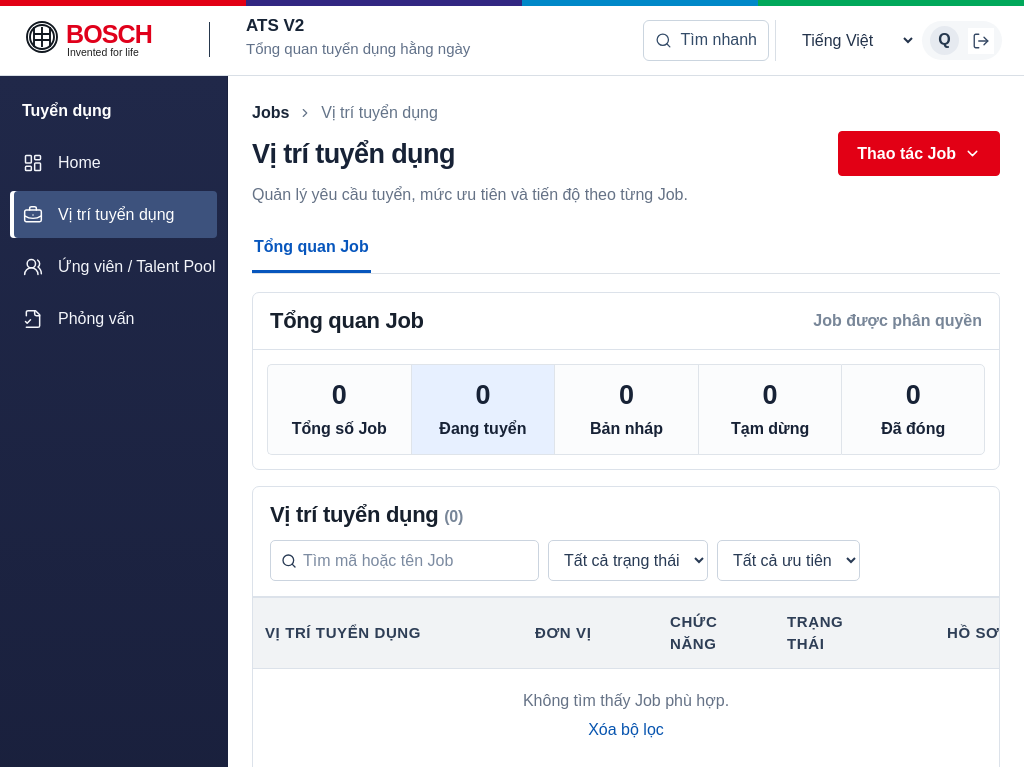
Test: switches administration language without resetting its form or scope
The image size is (1024, 767).
Click the button "Thao tác Job" at (919, 154), box [838,131,1000,176]
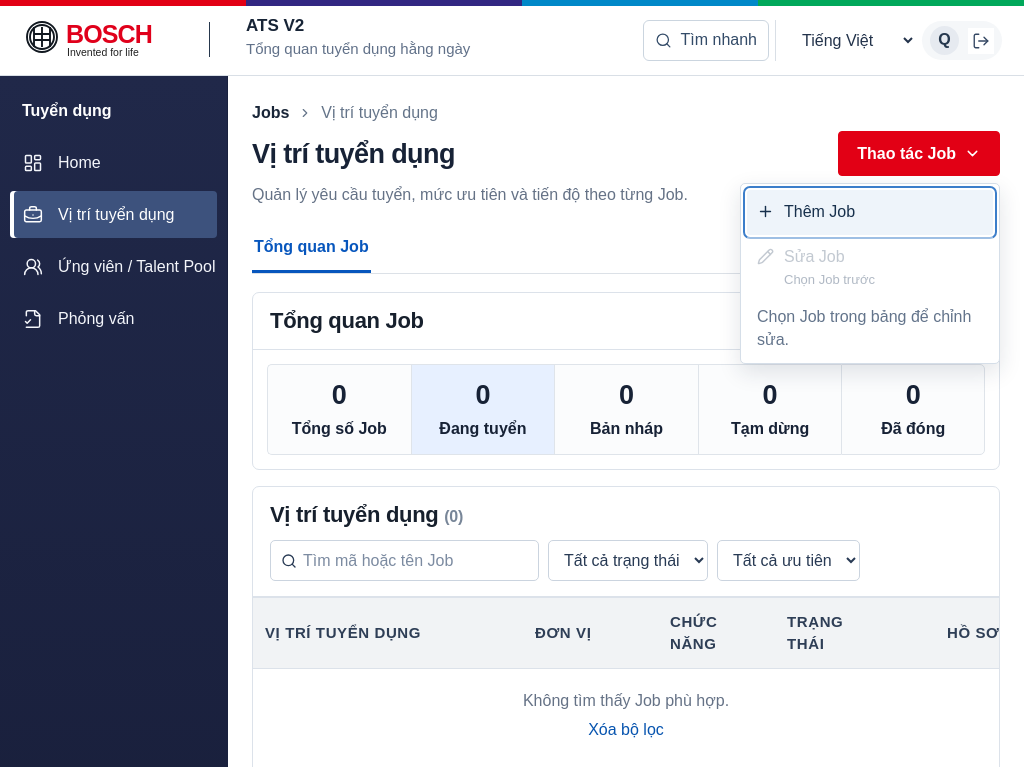
Click the menu item "Thêm Job" at (870, 213), box [747,190,993,235]
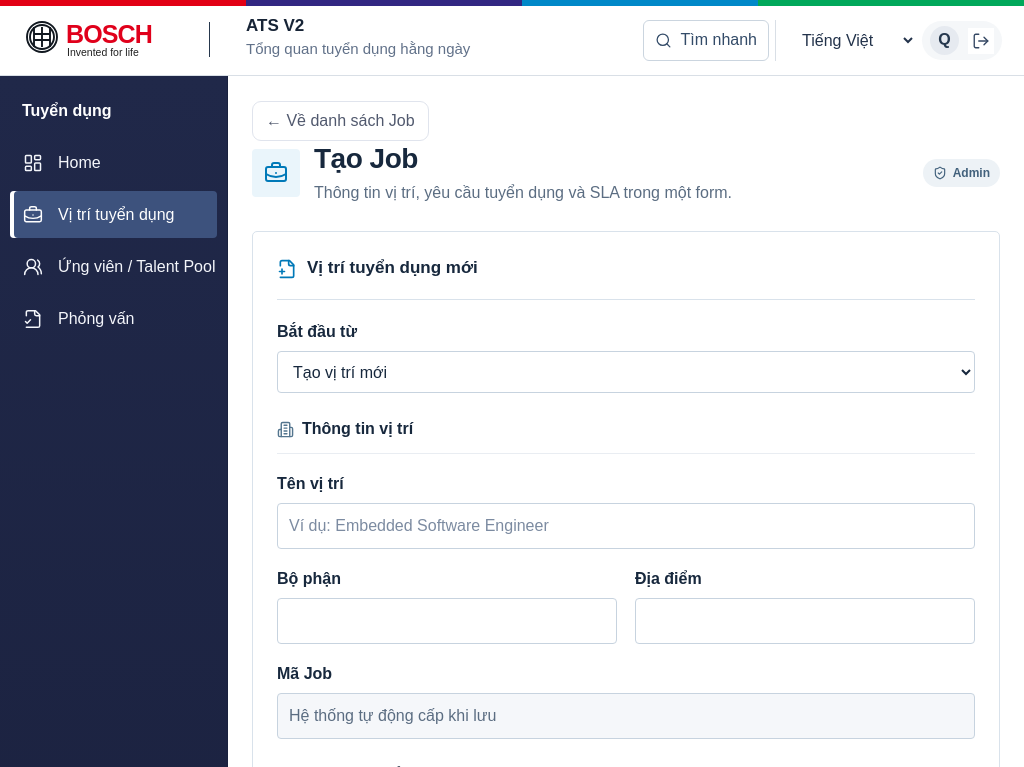
Type "Saved locally" into the field labelled "Tên vị trí" at (626, 526), box [277,503,975,549]
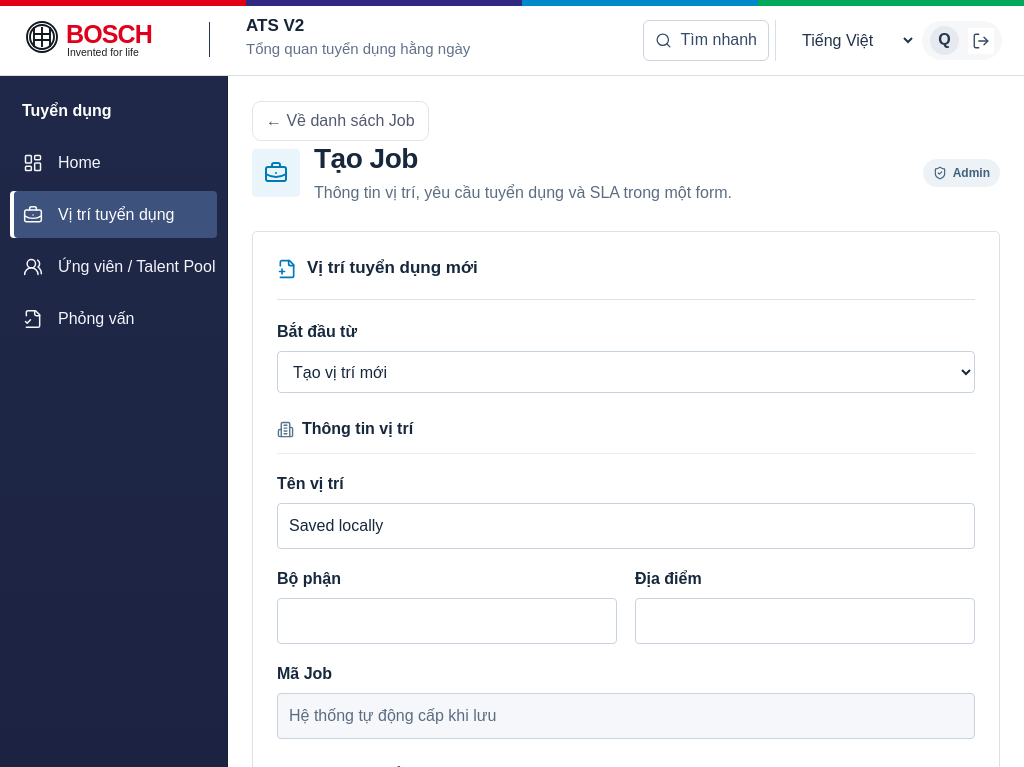
Select "English" in the dropdown named "Ngôn ngữ / Language" at (851, 40), box [786,20,916,61]
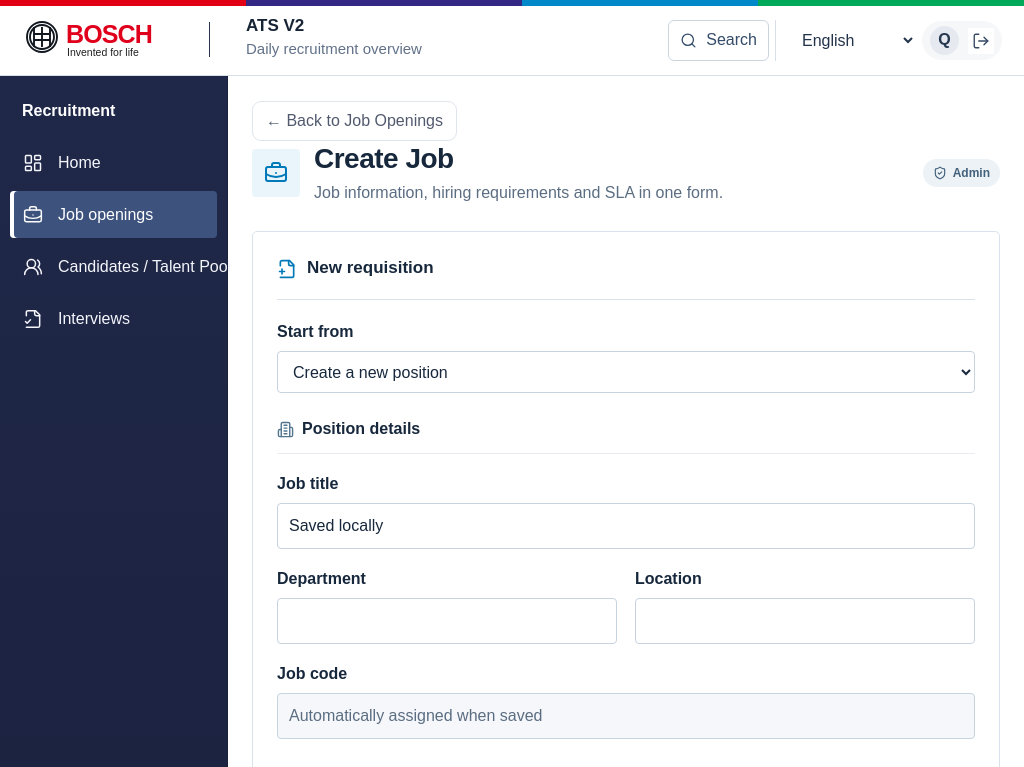
Expected: the heading "Create Job" is shown, [314,143,454,174]
